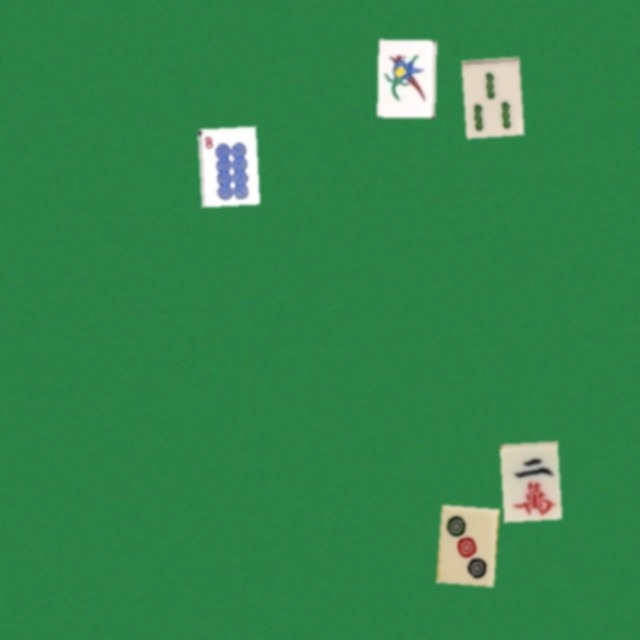tile: (197, 126, 255, 204), (499, 441, 557, 519), (436, 504, 494, 582), (377, 39, 435, 117), (461, 57, 519, 135)
